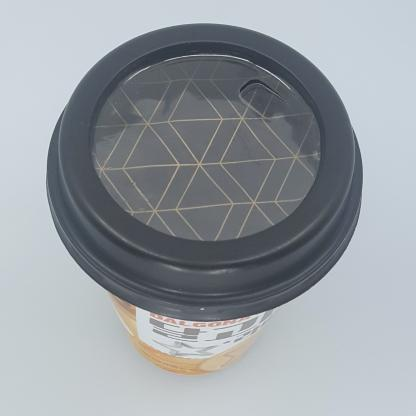---------250ML: (46, 23, 364, 376)
